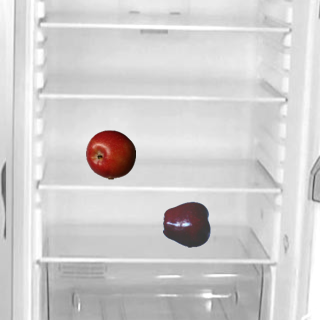Apple Braeburn: (85, 129, 135, 179)
Apple Red Delicious: (162, 199, 212, 249)
